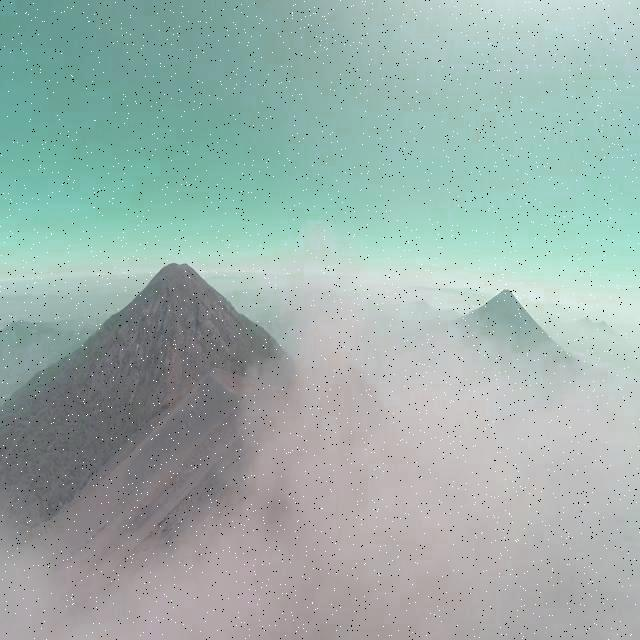Plume: (195, 231, 640, 640)
